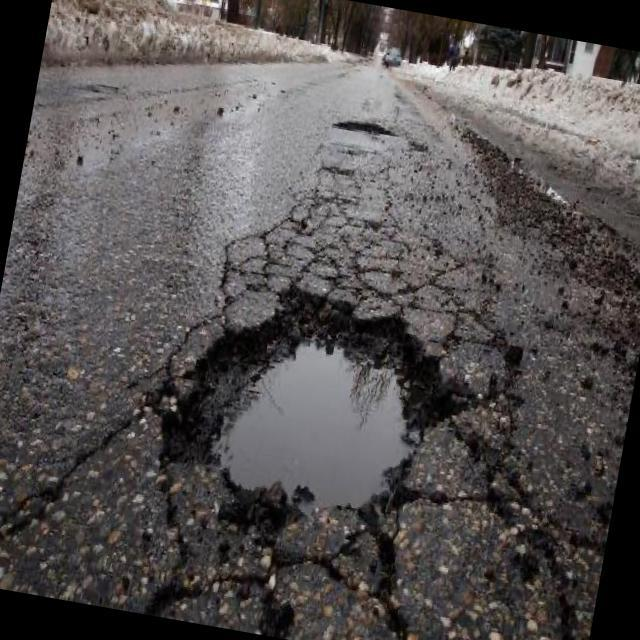Pothole: (163, 297, 463, 513)
